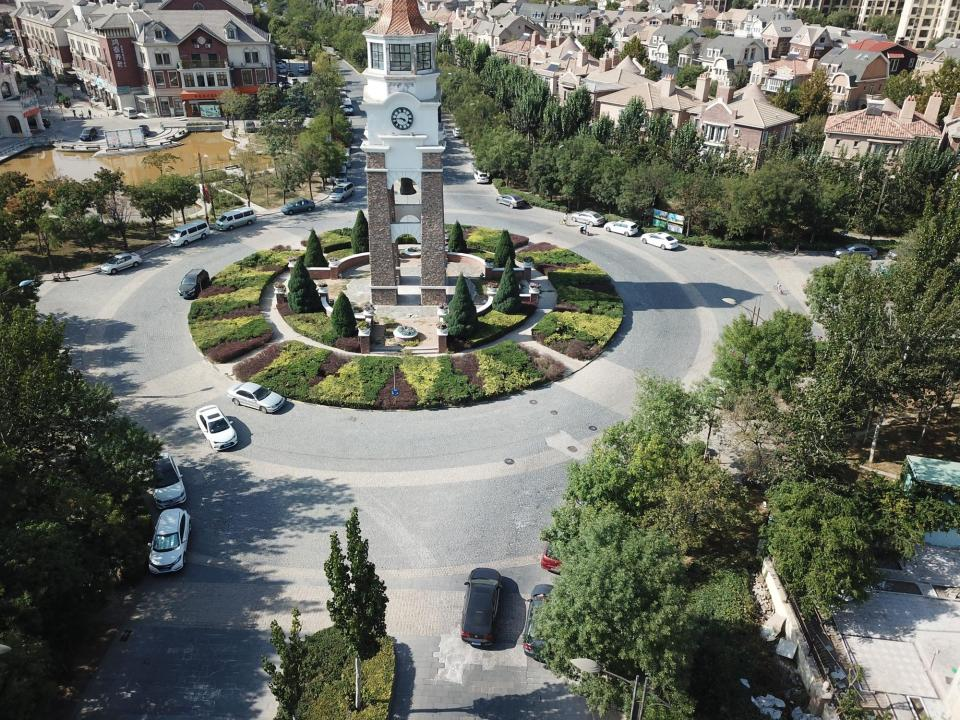car: (523, 584, 570, 662), (461, 566, 502, 648), (145, 508, 192, 574), (145, 452, 188, 509), (194, 404, 238, 451), (227, 381, 285, 413), (540, 524, 576, 572), (177, 268, 210, 298), (100, 252, 142, 275), (832, 243, 878, 261), (639, 231, 679, 250), (888, 246, 928, 262), (603, 219, 638, 237), (280, 197, 316, 214), (329, 180, 355, 202), (571, 210, 605, 226), (496, 193, 525, 209), (26, 118, 51, 129), (79, 127, 98, 141), (473, 169, 489, 184), (259, 118, 271, 135), (276, 118, 288, 132), (452, 127, 466, 138), (138, 125, 150, 137), (244, 121, 255, 133), (290, 120, 302, 131), (273, 62, 286, 68), (278, 66, 286, 73), (286, 70, 294, 77), (282, 80, 289, 88), (290, 77, 297, 84), (298, 66, 305, 72)
van: (167, 219, 210, 247), (215, 206, 257, 231), (330, 164, 348, 186), (336, 148, 352, 169), (340, 98, 354, 116), (338, 118, 353, 133), (122, 106, 138, 120), (339, 91, 348, 102)
